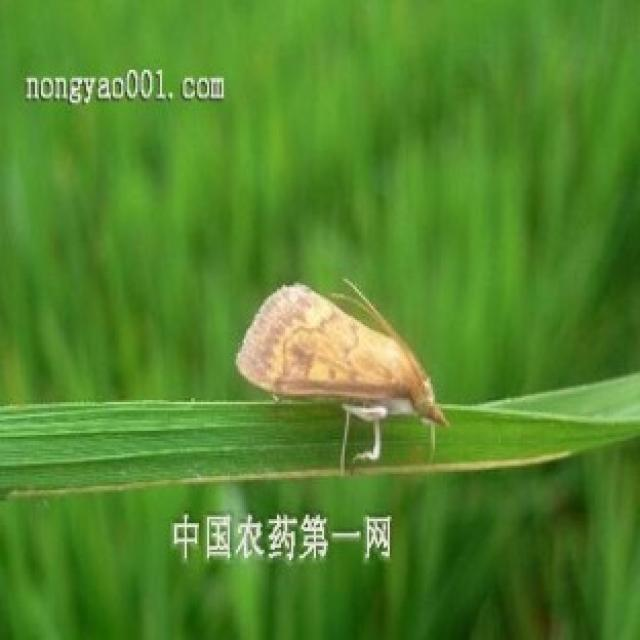rice leaf roller: (236, 270, 445, 470)
